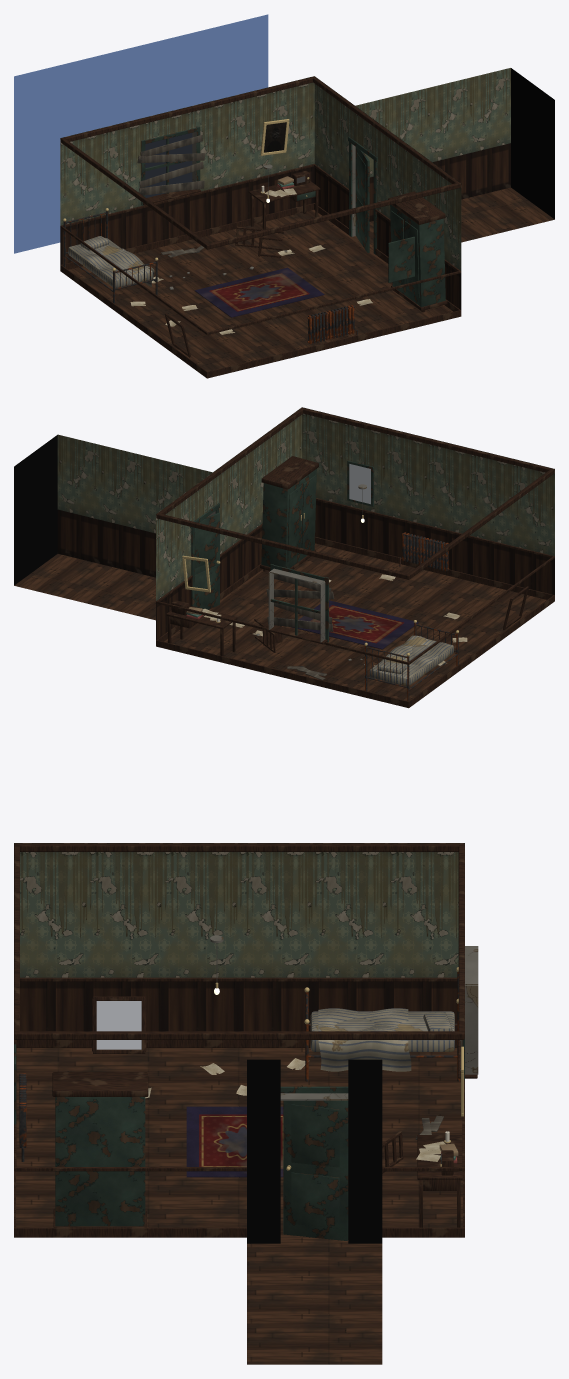
The model's file is horror_room.glb.
3 views of the same model, one above another, from view 1: azimuth 30°, elevation 25°; view 2: azimuth 150°, elevation 25°; view 3: azimuth 270°, elevation 25° (orthographic). The views are drawn at different scales.
Visible parts, largest first — view 1: Window, Floor, Wall_Back, Hallway, Trim, Wall_Right, Wardrobe, Rug, Bed, Window_Boards, Radiator, Door (+7 smaller); view 2: Wall_Front, Hallway, Floor, Trim, Wall_Right, Wardrobe, Bed, Rug, Window, Door, Window_Boards, Radiator (+5 smaller); view 3: Wall_Left, Floor, Hallway, Trim, Wardrobe, Door, Bed, Rug, Frame_Fallen, Window, Desk, Door_Frame (+2 smaller).
Boxes of the visible parts, left/top/right/bottom form: Window: left=14, top=14, right=268, bottom=253; Floor: left=68, top=210, right=452, bottom=378; Wall_Back: left=60, top=76, right=314, bottom=264; Hallway: left=353, top=68, right=554, bottom=251; Trim: left=60, top=76, right=461, bottom=378; Wall_Right: left=314, top=76, right=461, bottom=309; Wardrobe: left=388, top=191, right=447, bottom=312; Rug: left=194, top=267, right=324, bottom=317; Bed: left=63, top=208, right=158, bottom=303; Window_Boards: left=137, top=135, right=205, bottom=195; Radiator: left=307, top=305, right=357, bottom=344; Door: left=355, top=147, right=369, bottom=252; Wall_Front: left=302, top=407, right=554, bottom=594; Hallway: left=14, top=434, right=212, bottom=620; Floor: left=164, top=543, right=547, bottom=700; Trim: left=156, top=407, right=554, bottom=707; Wall_Right: left=156, top=407, right=301, bottom=639; Wardrobe: left=260, top=456, right=318, bottom=571; Bed: left=364, top=620, right=458, bottom=701; Rug: left=292, top=600, right=418, bottom=649; Window: left=267, top=564, right=329, bottom=644; Door: left=194, top=512, right=220, bottom=609; Window_Boards: left=266, top=574, right=334, bottom=631; Radiator: left=399, top=532, right=449, bottom=571; Wall_Left: left=14, top=843, right=464, bottom=1031; Floor: left=16, top=1048, right=462, bottom=1237; Hallway: left=247, top=1059, right=382, bottom=1364; Trim: left=14, top=843, right=464, bottom=1237; Wardrobe: left=52, top=1072, right=148, bottom=1227; Door: left=283, top=1100, right=348, bottom=1240; Bed: left=304, top=967, right=460, bottom=1081; Rug: left=186, top=1106, right=283, bottom=1177; Frame_Fallen: left=92, top=996, right=146, bottom=1053; Window: left=458, top=946, right=478, bottom=1080; Desk: left=417, top=1135, right=462, bottom=1227; Door_Frame: left=280, top=1086, right=348, bottom=1100.
Size of the model in its own units: 10.4 by 4.02 by 7.2.
Materials: 23 (12 with a texture image).
